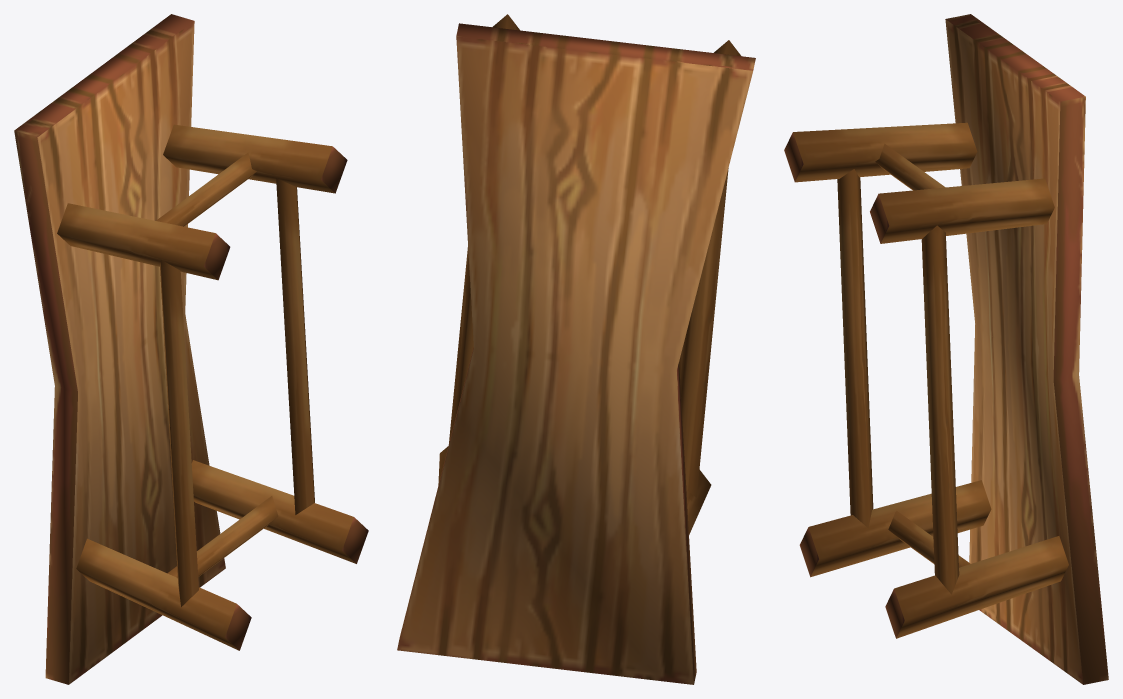
The model's file is Wpn_DengZi.FBX.
3 renders of one model, left to right at view 1: azimuth 30°, elevation 25°; view 2: azimuth 150°, elevation 25°; view 3: azimuth 270°, elevation 25°, orthographic. The views are drawn at different scales.
Visible parts, largest first — view 1: Wpn_DengZi; view 2: Wpn_DengZi; view 3: Wpn_DengZi.
Boxes of the visible parts, x1,y1,x2,y2 form: Wpn_DengZi: (14,14,368,684); Wpn_DengZi: (397,14,755,684); Wpn_DengZi: (784,14,1108,684).
Bounding box in the file's own units: 0.8616 × 1.51 × 0.7593.
